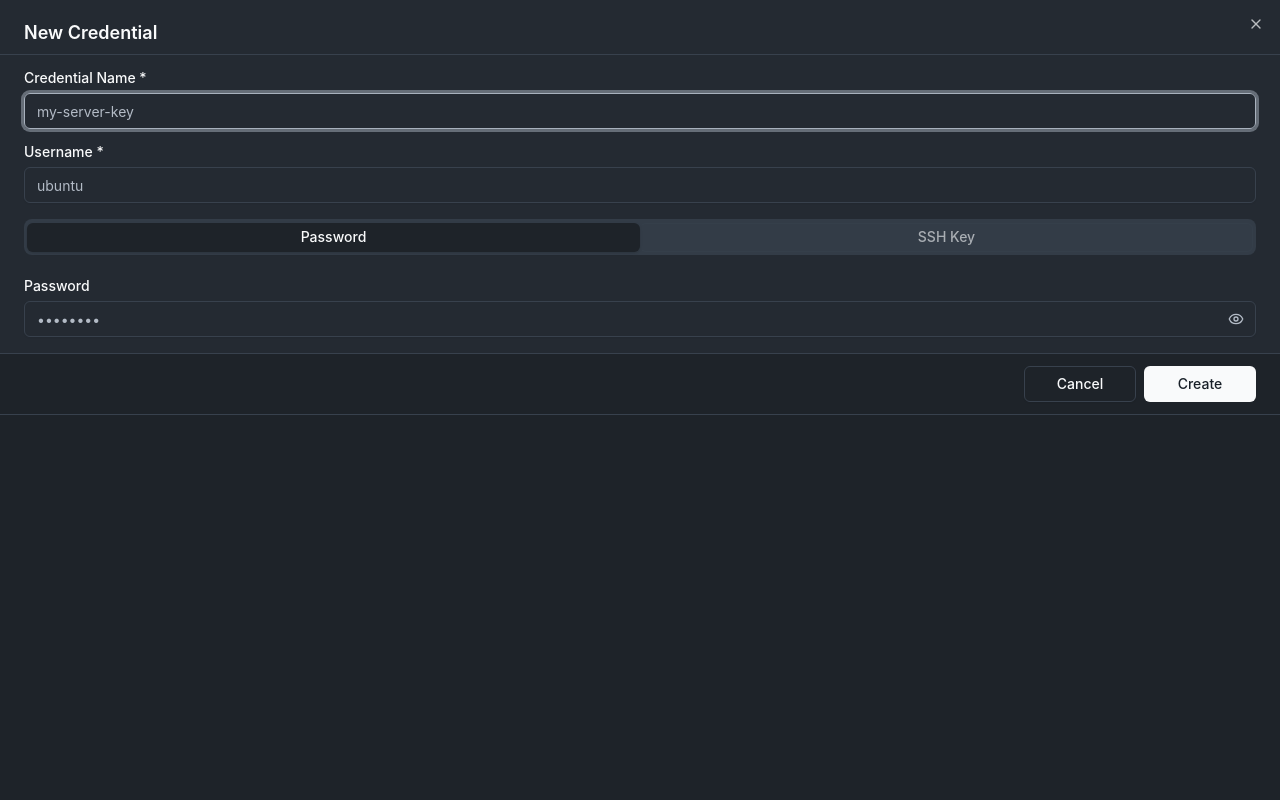
Scenario: CredentialForm Browse private key button › opens the file picker and writes the chosen path into the input
Click the tab "SSH Key" at (946,237), box [640,222,1253,252]
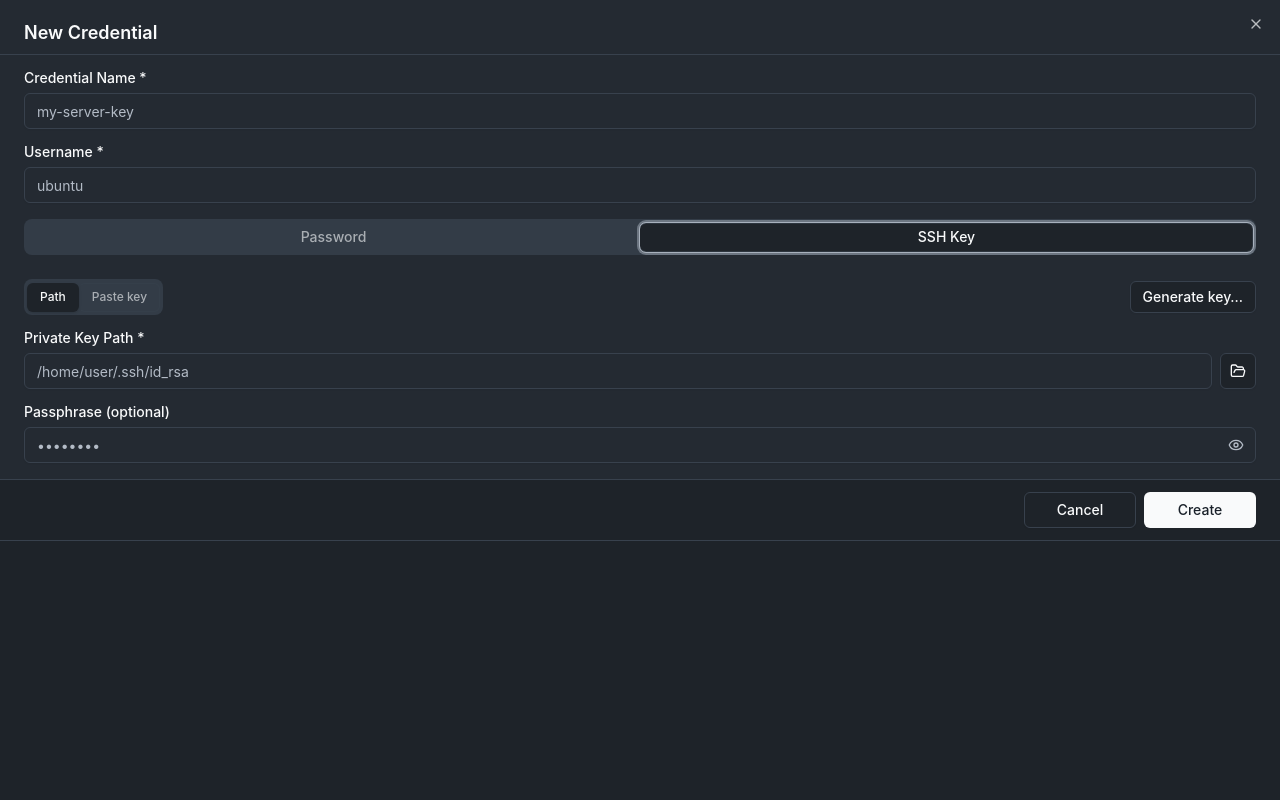
Click the button named "browse for private key file" at (1238,371), box [1220,353,1256,389]
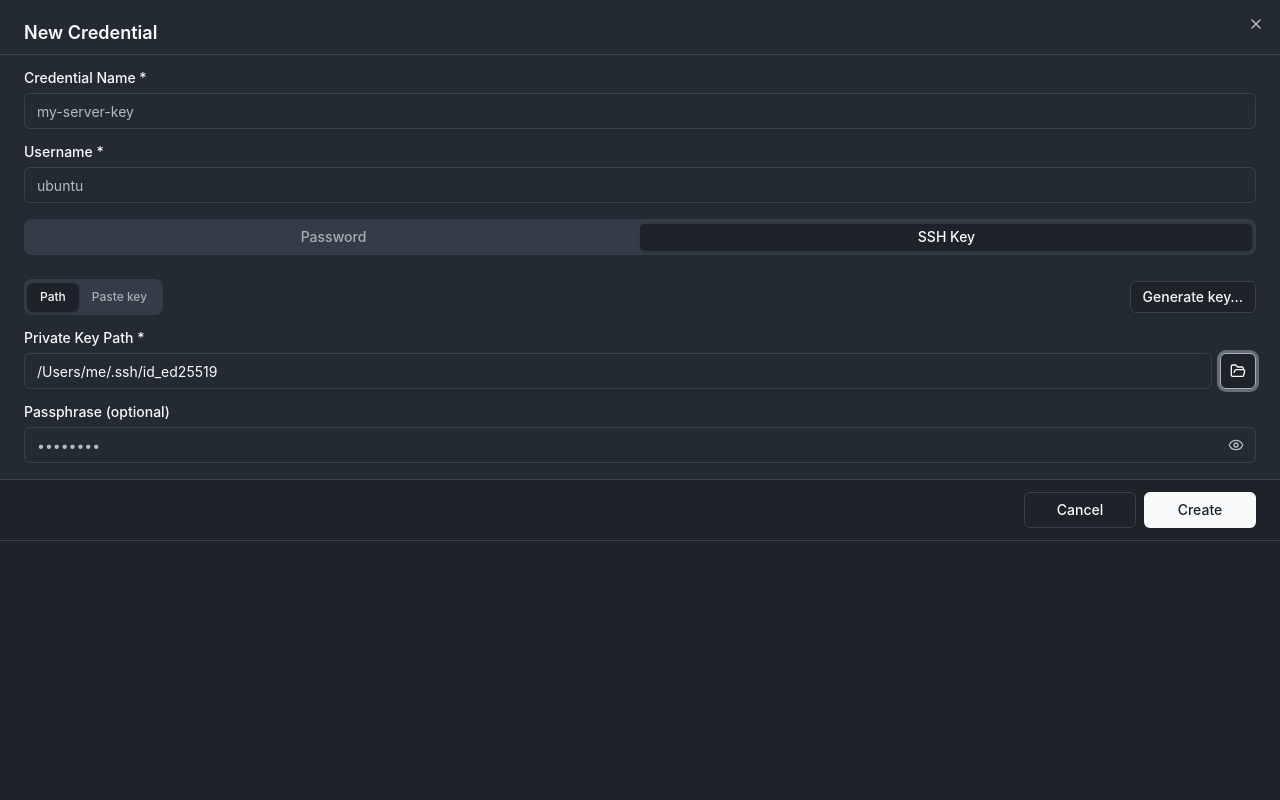
Check: the field labelled "Private Key Path *" holds "/Users/me/.ssh/id_ed25519", box [24,353,1212,389]
